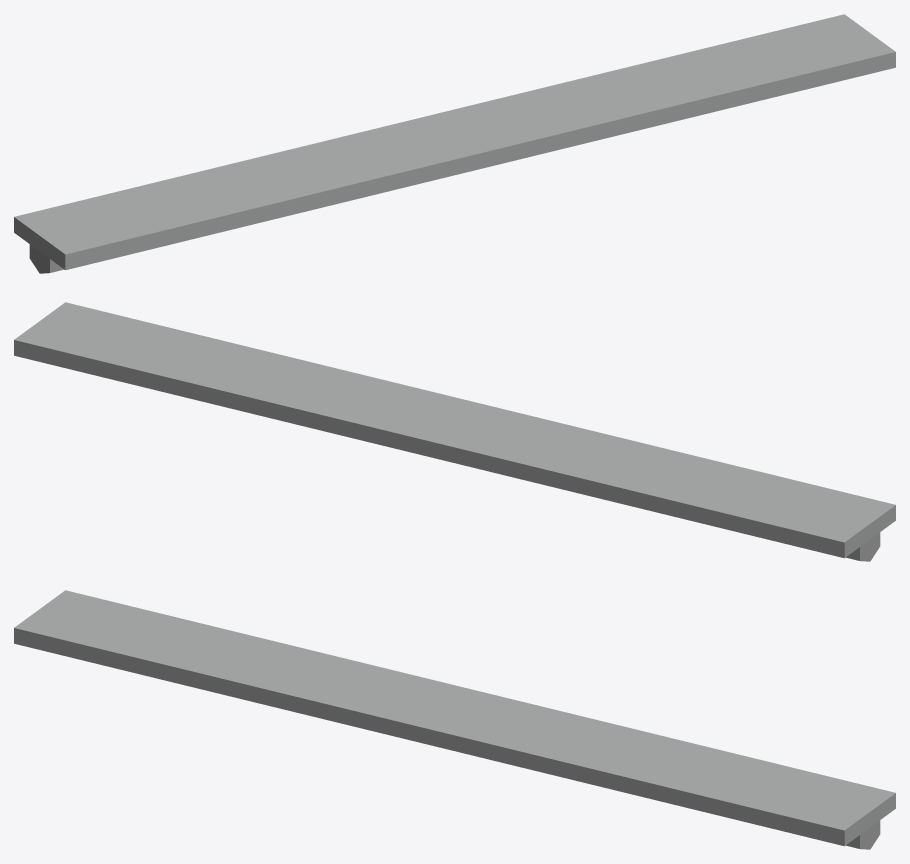
File: SM_Calling_Light.fbx
3 views of the same model, one above another, from view 1: azimuth 30°, elevation 25°; view 2: azimuth 150°, elevation 25°; view 3: azimuth 330°, elevation 25° (orthographic).
Parts seen in each view (by area): view 1: calling_Light_mash; view 2: calling_Light_mash; view 3: calling_Light_mash.
Boxes of the visible parts, left/top/right/bottom form: calling_Light_mash: left=14, top=14, right=895, bottom=273; calling_Light_mash: left=14, top=302, right=895, bottom=561; calling_Light_mash: left=14, top=590, right=895, bottom=849.
Bounding box in the file's own units: 1 × 0.0438 × 0.1074.
